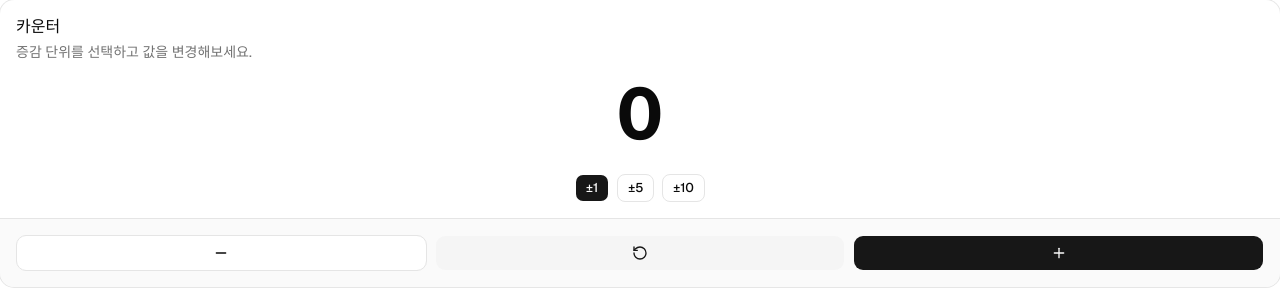
CounterCard › 증가·감소·초기화 버튼으로 값이 바뀐다
Expected: the text "0" is shown, [617,78,663,150]
What coordinates should you click on to do the following:
click the button named "증가"
I would click on:
 (1059, 253)
Its box is [853,235,1264,271].
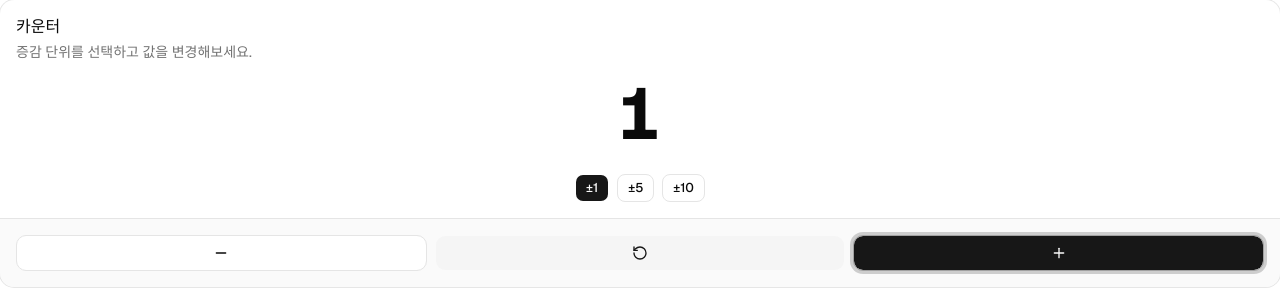
What coordinates should you click on to do the following:
click the button named "증가"
I would click on:
 (1059, 253)
Its box is [853,235,1264,271].
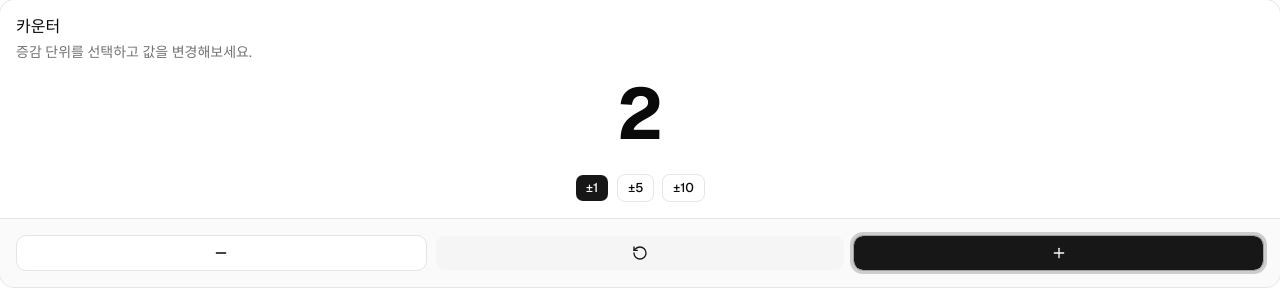
Expected: the text "2" is shown, [617,78,663,150]
What coordinates should you click on to do the following:
click the button named "감소"
I would click on:
 (221, 253)
Its box is [16,235,427,271].
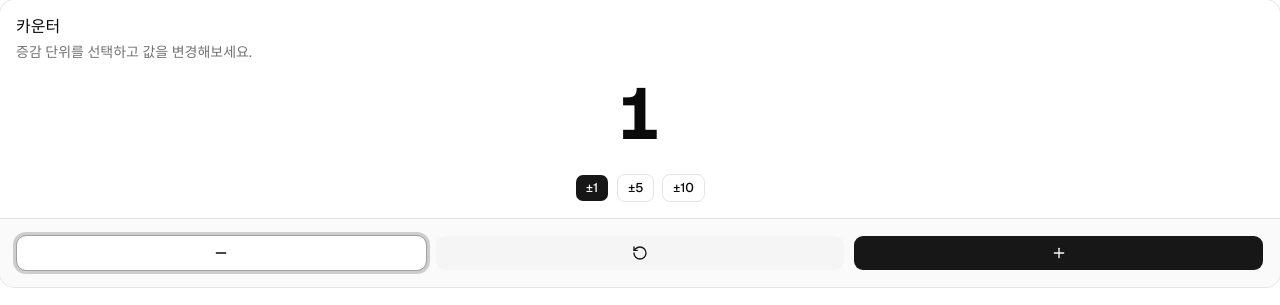
Expected: the text "1" is shown, [617,78,663,150]
What coordinates should you click on to do the following:
click the button named "초기화"
I would click on:
 (640, 253)
Its box is [435,235,845,271].
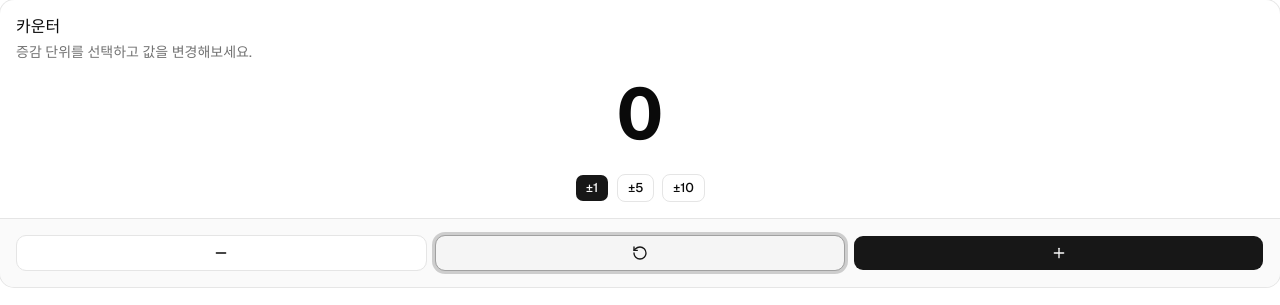
Expected: the text "0" is shown, [617,78,663,150]
